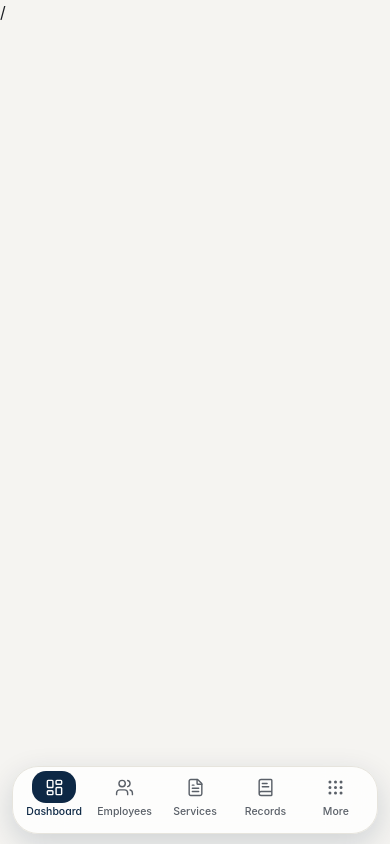
Test: BottomTabBar › opens the tools sheet on More without navigating
Click the button "More".
click(336, 800)  # box top-left (301, 767), bottom-right (371, 833)
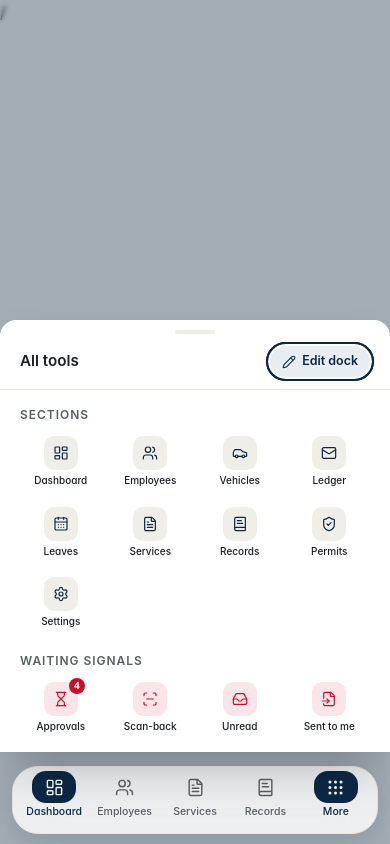
expect the text with test id "location" reads "/": met, box top-left (0, 2), bottom-right (6, 22)
expect the dialog is shown: met, box top-left (0, 320), bottom-right (389, 752)
